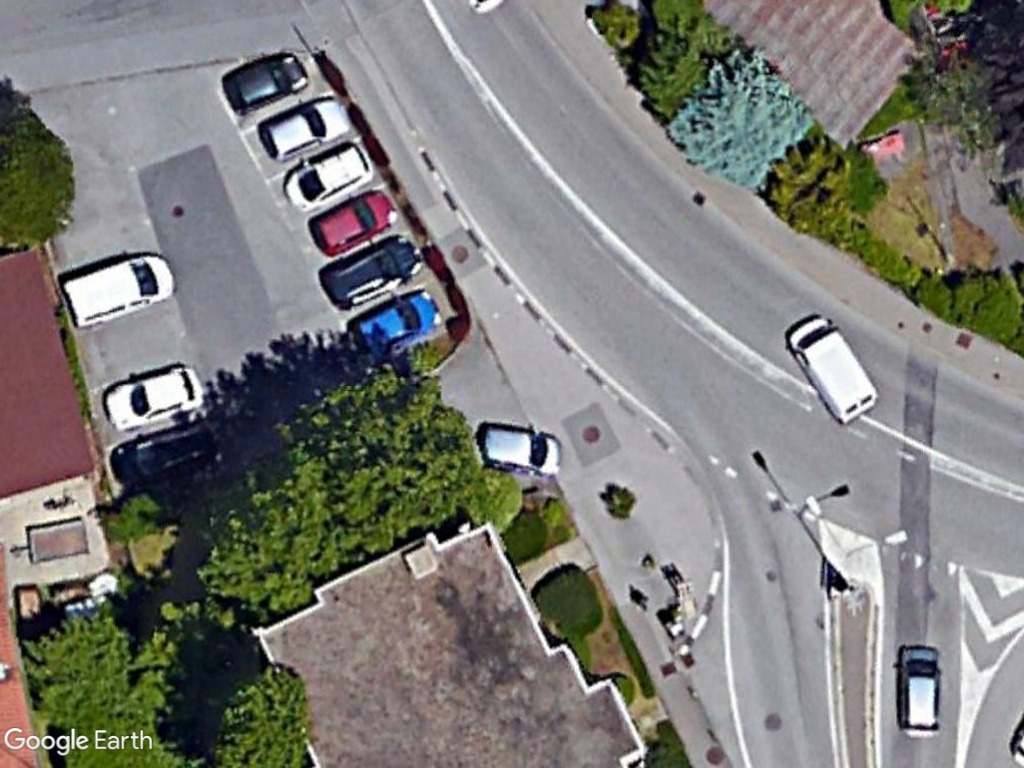car: (317, 234, 424, 311), (99, 363, 205, 437), (283, 137, 379, 212), (308, 184, 405, 252), (355, 289, 445, 361), (220, 50, 314, 117), (261, 94, 352, 160), (893, 637, 948, 741), (479, 416, 566, 479)
van: (783, 313, 881, 428), (61, 242, 180, 331)
